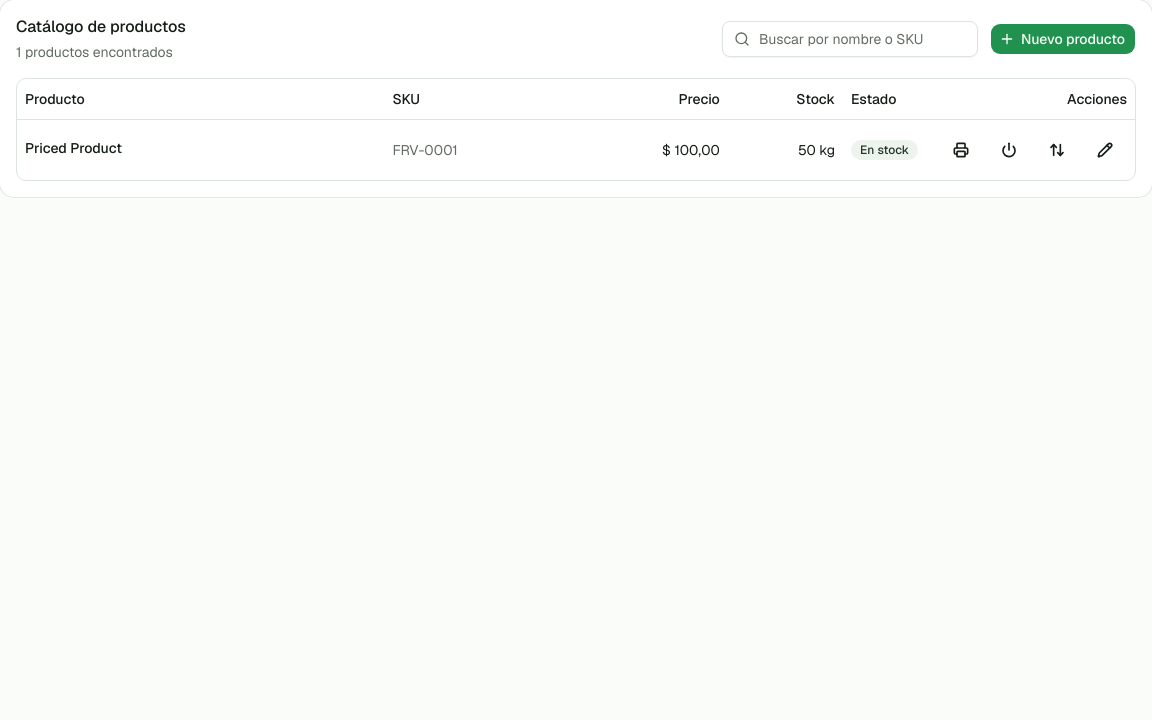
Test: ProductsTable — backend-persisted label requests › refreshes backend pending jobs on price change instead of enqueuing locally
The width and height of the screenshot is (1152, 720).
Expected: the text "Priced Product" is shown, [25,138,122,158]
Click the button named "Editar Priced Product".
click(1105, 150)  # box [1083,128,1127,172]
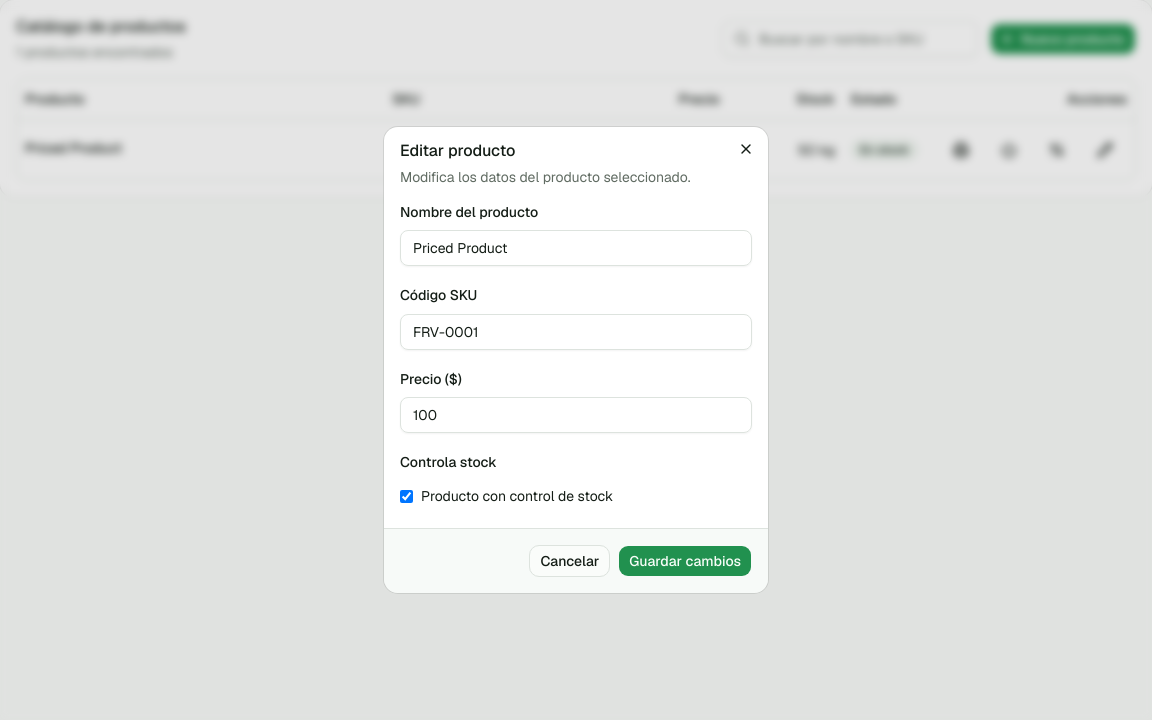
Expected: the dialog is shown, [384,127,768,593]
Replace the text in the number field labelled "Precio ($)" with "150" at (576,415), box [400,397,752,433]
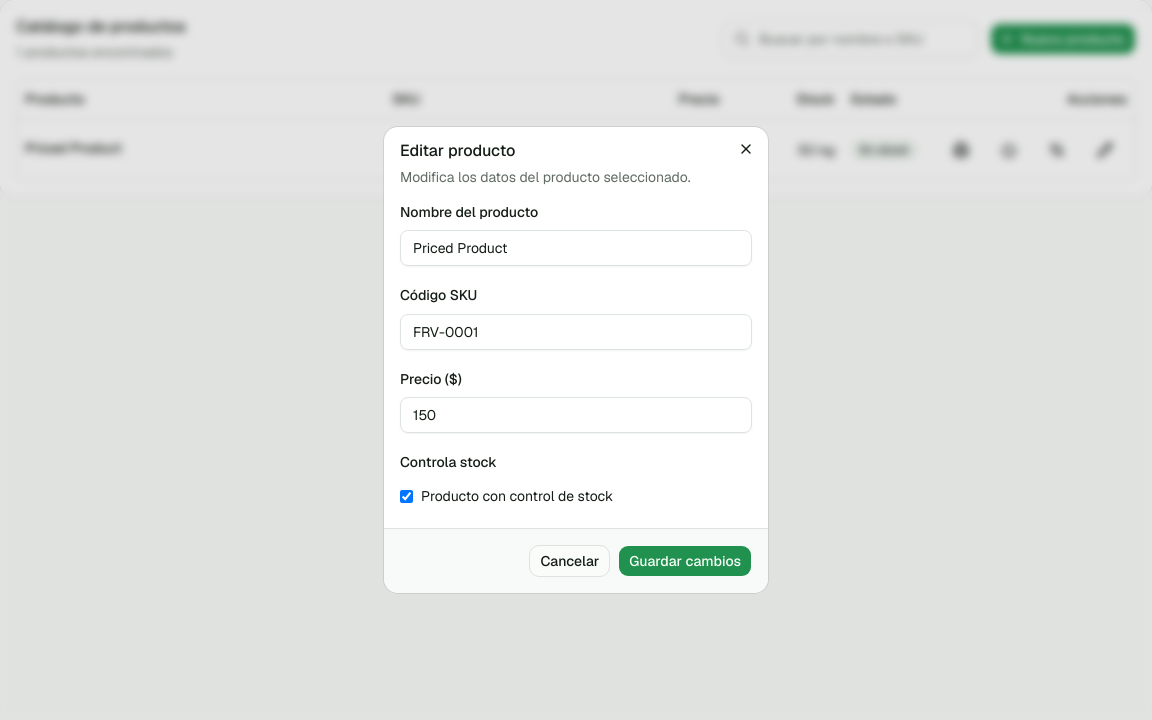
Click the button "Guardar cambios".
click(685, 561)  # box [618,545,752,577]
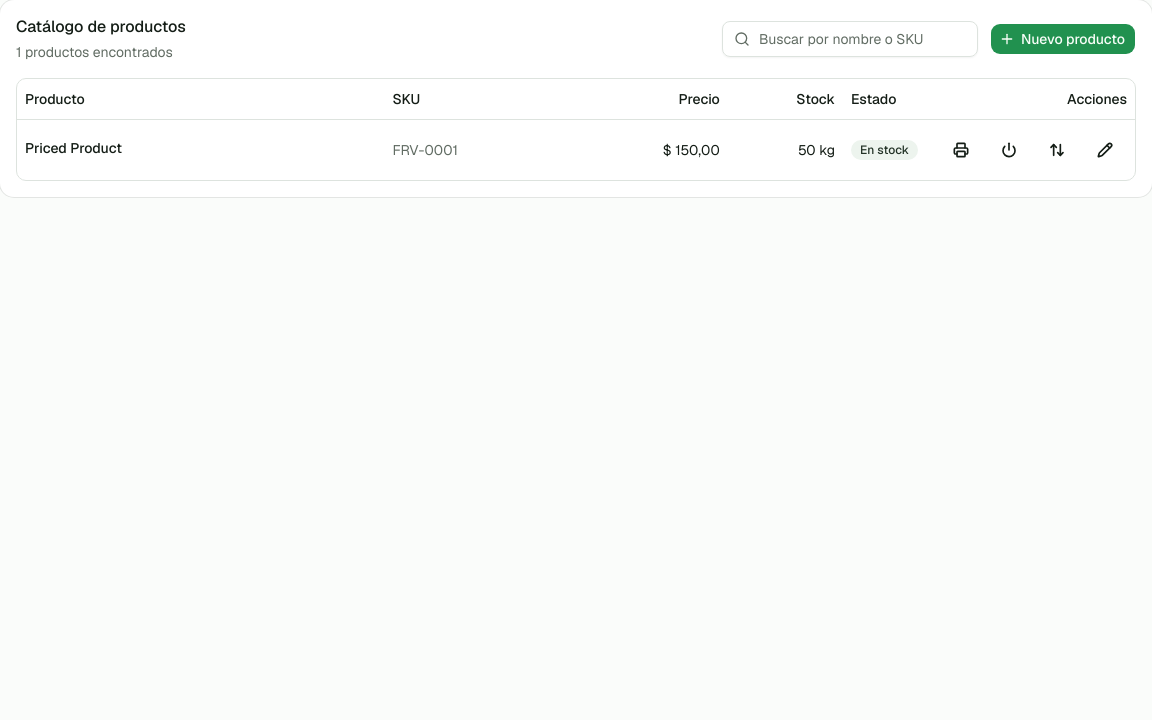
Expected: the dialog is gone
